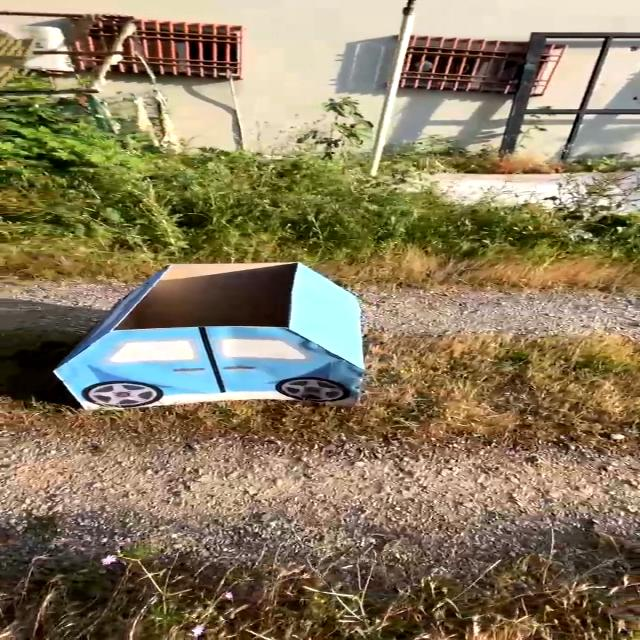blue_car: (0, 211, 411, 426)
